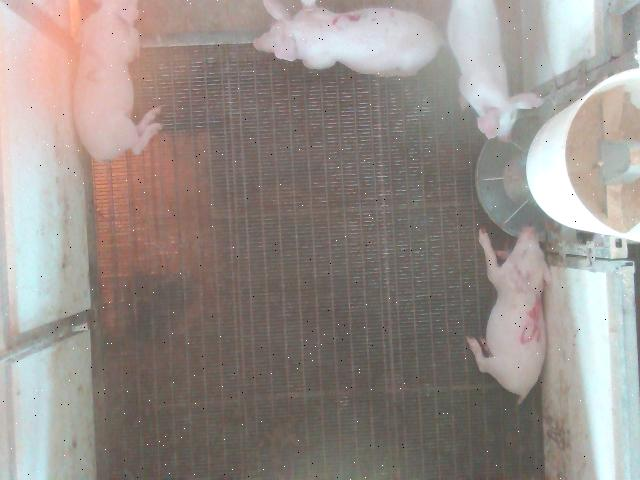pig-2: (74, 2, 162, 161)
pig-3: (254, 1, 442, 76)
pig-5: (466, 228, 551, 404)
